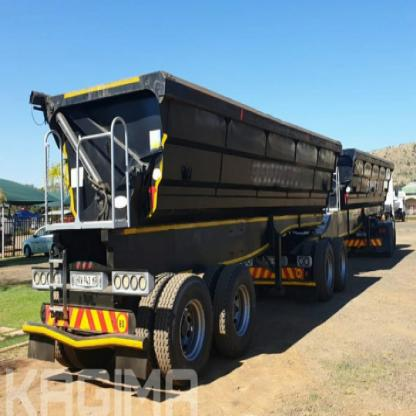dump_truck: (18, 58, 406, 388)
